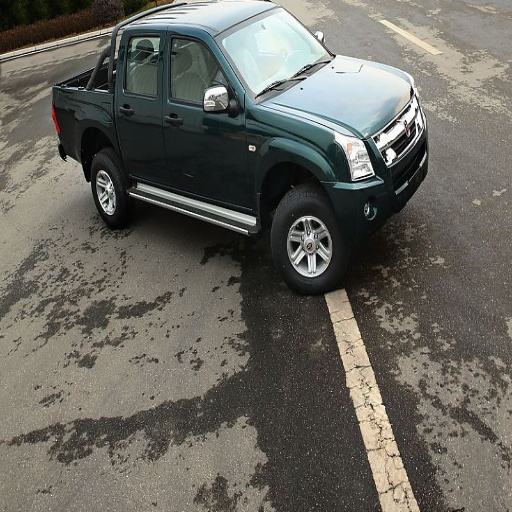front_bumper: (330, 122, 424, 234)
front_right_door: (163, 24, 255, 223)
front_right_light: (336, 130, 372, 179)
trunk: (59, 89, 110, 155)
